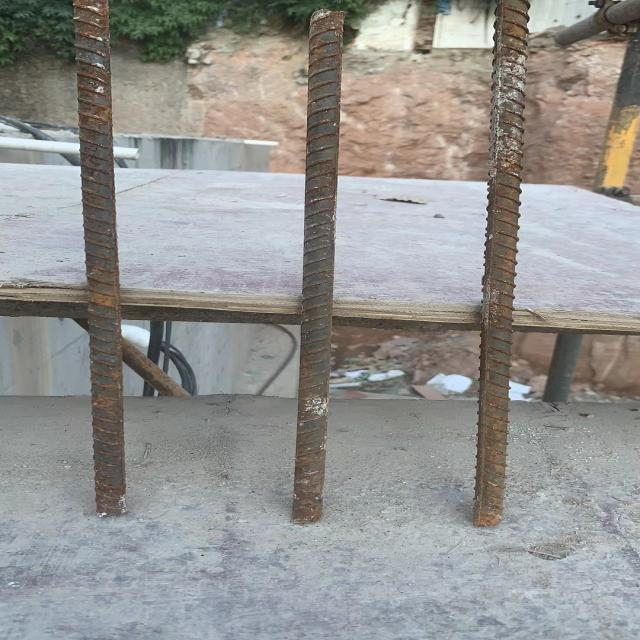ribbed bar: (69, 0, 131, 519), (468, 0, 528, 529), (288, 8, 348, 524)
